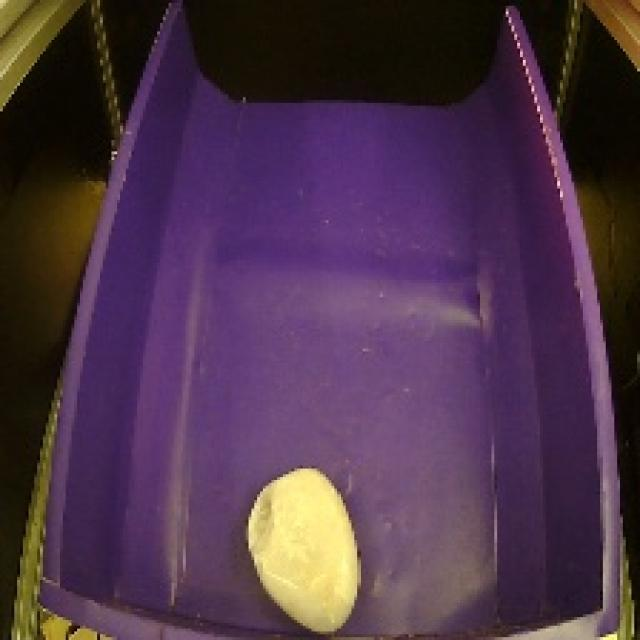cobbles: (237, 454, 376, 634)
